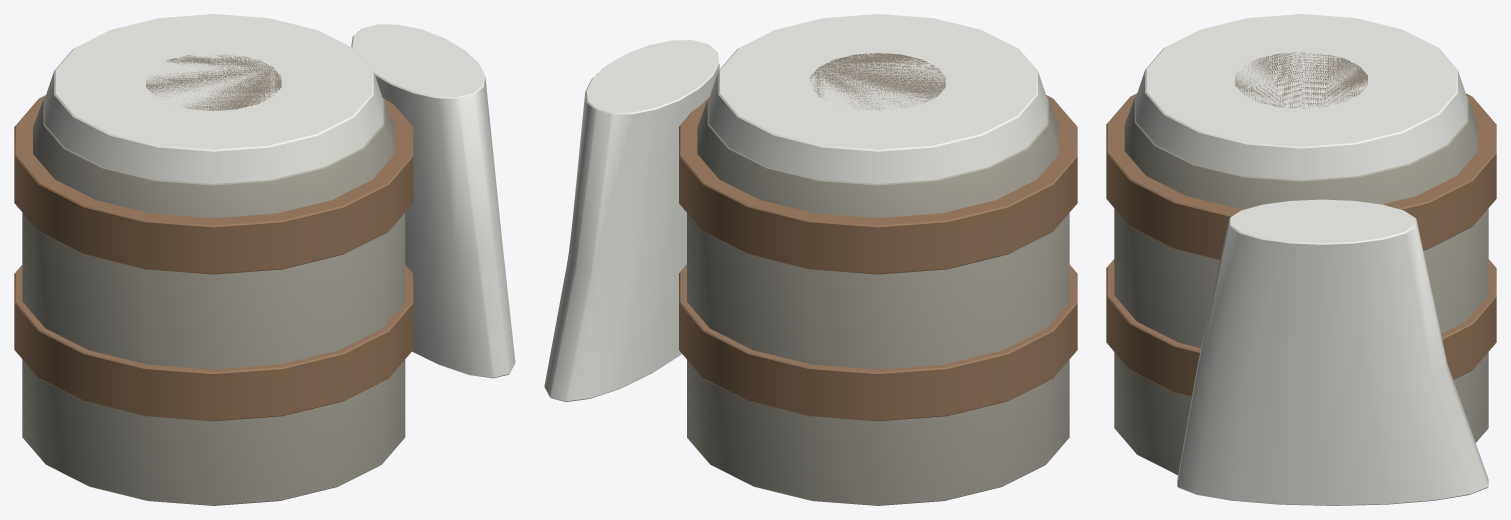
Rendered from IT_cloth_roll.fbx.
3 renders of one model, left to right at view 1: azimuth 30°, elevation 25°; view 2: azimuth 150°, elevation 25°; view 3: azimuth 270°, elevation 25°, orthographic. The views are drawn at different scales.
Visible parts, largest first — view 1: IT_cloth_roll; view 2: IT_cloth_roll; view 3: IT_cloth_roll.
Part boxes in pixels (<box>): IT_cloth_roll: <box>14,14,515,505</box>; IT_cloth_roll: <box>544,14,1077,505</box>; IT_cloth_roll: <box>1106,14,1496,505</box>.
Size of the model in its own units: 0.4775 by 0.35 by 0.3693.
